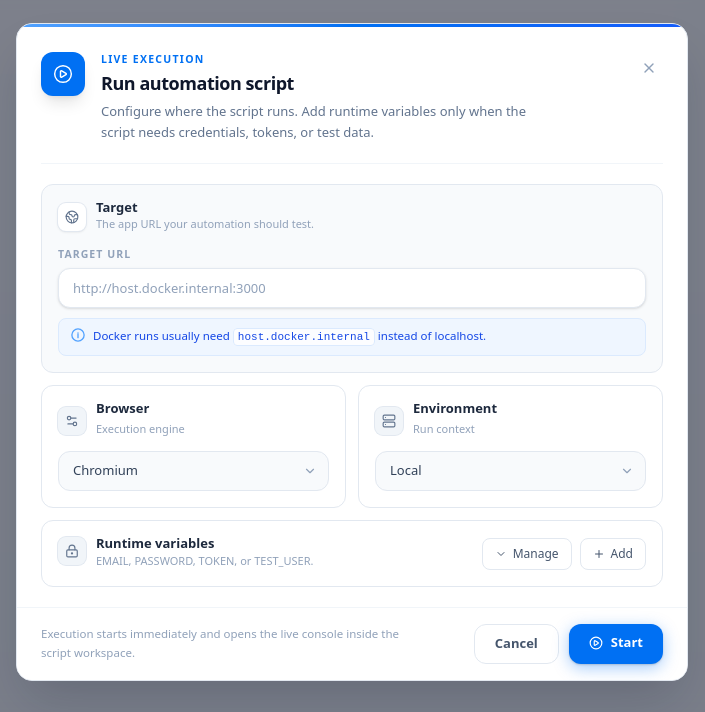
Test: RunExecutionModal › adds and removes a runtime variable row
Expected: the heading "Run automation script" is shown, [101,71,294,95]
Click the button "Add" at (613, 554), box [580,538,646,570]
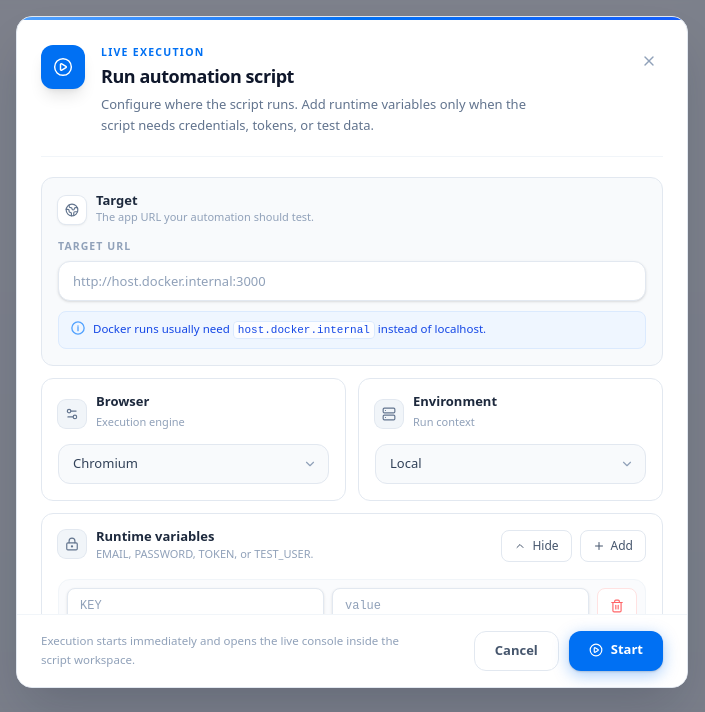
Expected: the field with placeholder "KEY" is shown, [67,588,324,614]
Expected: the field with placeholder "value" is shown, [332,588,589,614]
Click the button named "Remove variable" at (617, 606), box [597,588,637,624]
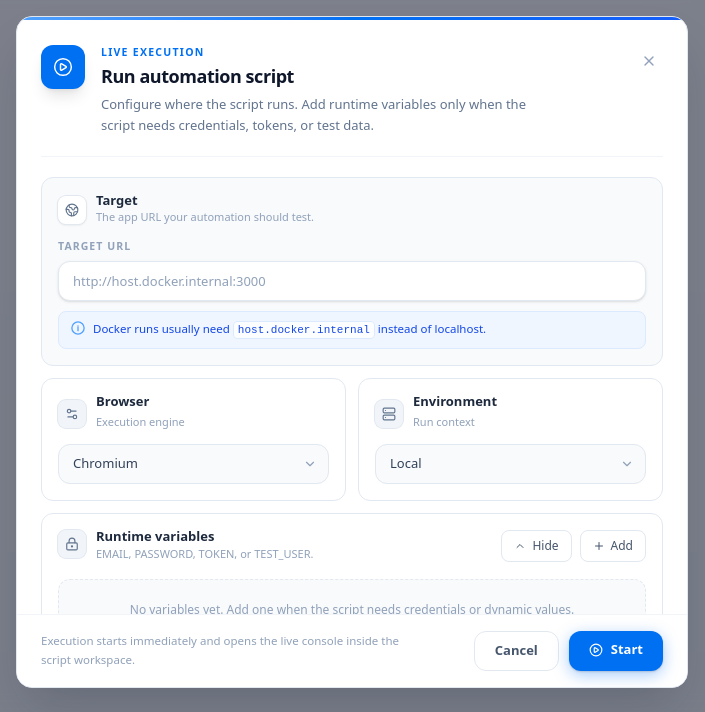
Expected: the field with placeholder "KEY" is gone
